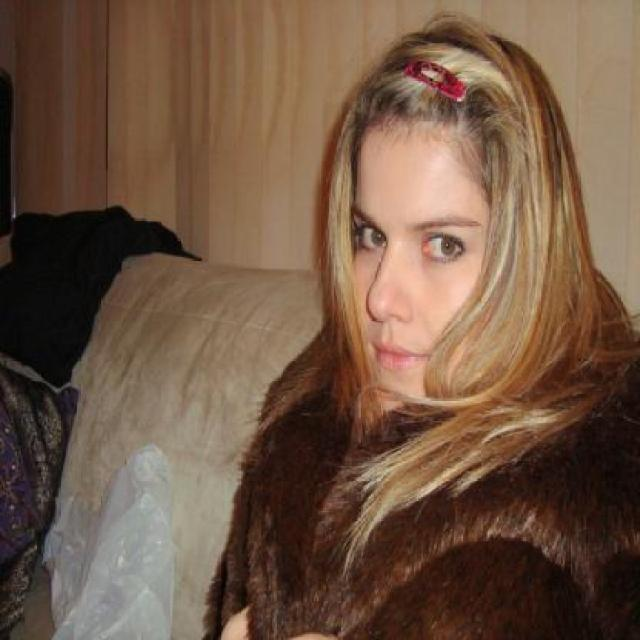plastic bag: (41, 443, 177, 639)
